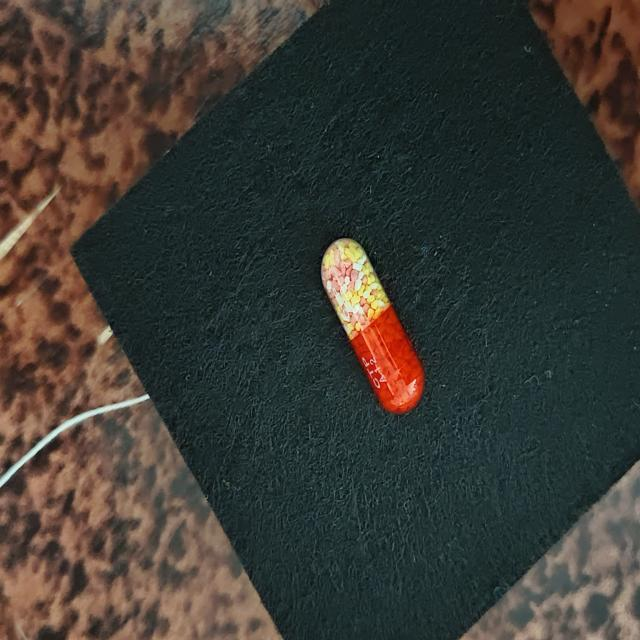Intact Capsule: (321, 238, 425, 414)
